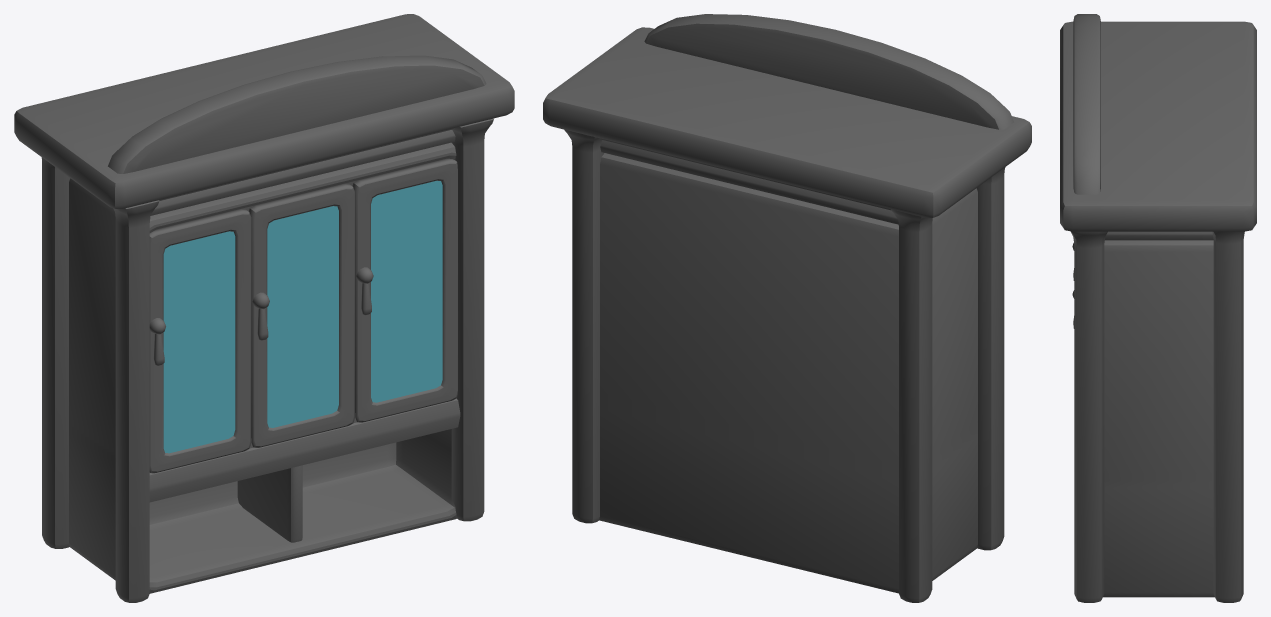
Rendered from SM_cupboard_01.fbx.
3 views of the same model, side by side, from view 1: azimuth 30°, elevation 25°; view 2: azimuth 150°, elevation 25°; view 3: azimuth 270°, elevation 25° (orthographic). The views are drawn at different scales.
Parts seen in each view (by area): view 1: Box364; view 2: Box364; view 3: Box364.
Part boxes in pixels (x1,y1,x2,y2): Box364: (14,14,514,602); Box364: (543,14,1031,602); Box364: (1060,14,1256,602).
Bounding box in the file's own units: 97.51 × 111 × 43.43.
